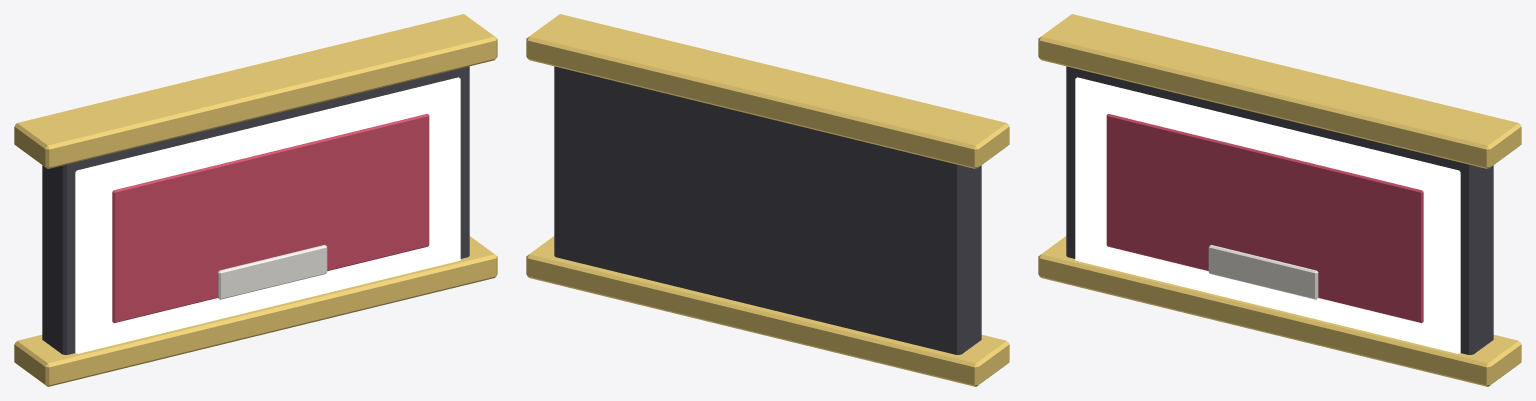
File: cinema-multiplex-and-foyer-screen-number-sign-058f4219__34688.glb
The picture shows the model from 3 angles, left to right: view 1: azimuth 30°, elevation 25°; view 2: azimuth 150°, elevation 25°; view 3: azimuth 330°, elevation 25°; orthographic projection.
Parts seen in each view (by area): view 1: screen-number-sign; view 2: screen-number-sign; view 3: screen-number-sign.
Boxes of the visible parts, x1,y1,x2,y2 form: screen-number-sign: (14, 14, 497, 386); screen-number-sign: (526, 14, 1009, 386); screen-number-sign: (1038, 14, 1521, 386).
Size of the model in its own units: 1 by 0.5101 by 0.133.
